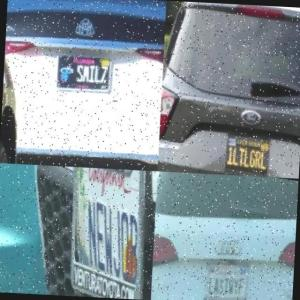Plate: (54, 166, 157, 300), (226, 127, 279, 175), (203, 254, 252, 300), (58, 52, 115, 90)
